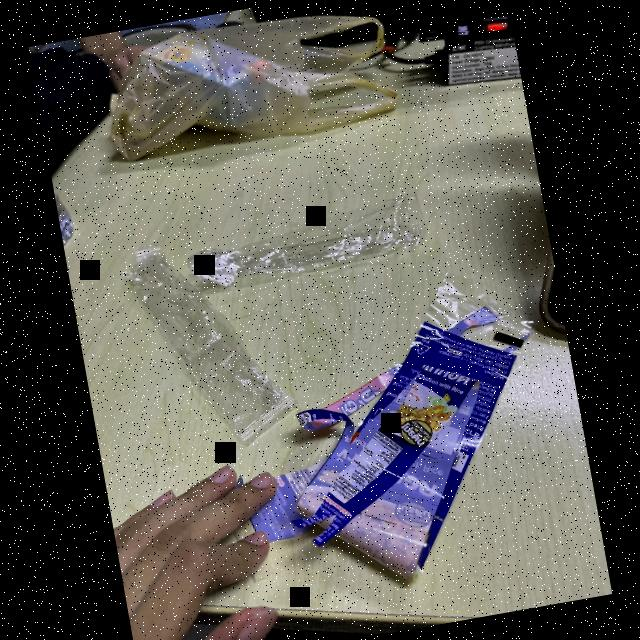scrap_plastic: (254, 261, 574, 592), (114, 232, 306, 459), (178, 184, 440, 301)
